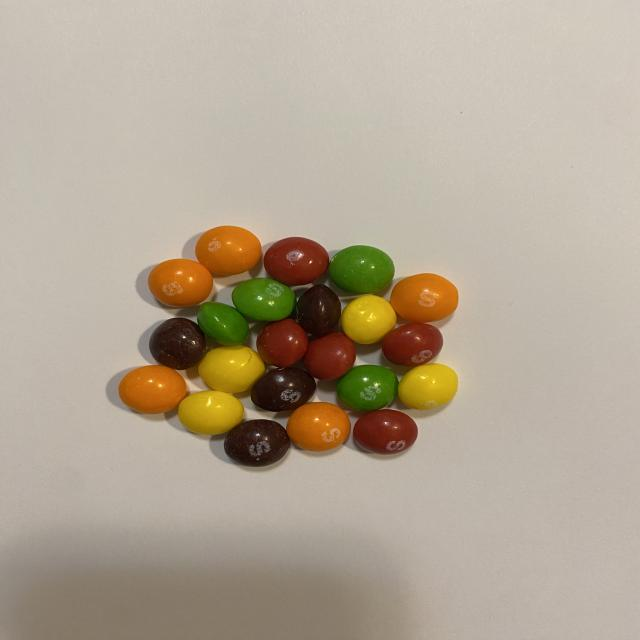smartie: (389, 273, 459, 323), (117, 365, 186, 415), (194, 225, 261, 275), (328, 245, 395, 294), (197, 345, 264, 393), (263, 237, 329, 285), (223, 420, 290, 467), (286, 403, 350, 452), (147, 259, 212, 307), (177, 390, 243, 435), (250, 367, 316, 412), (352, 410, 418, 455), (148, 318, 205, 370), (336, 365, 398, 412), (340, 295, 397, 344), (398, 364, 458, 410), (232, 278, 295, 321), (382, 323, 443, 367), (256, 318, 308, 368), (303, 332, 356, 380), (296, 284, 341, 338), (197, 302, 248, 346)
